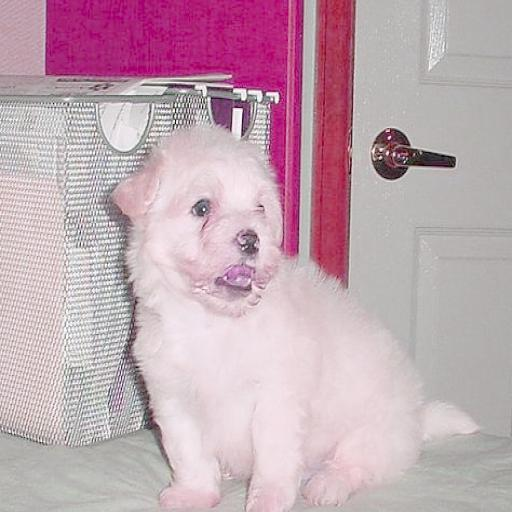dog_face: (110, 130, 294, 327)
